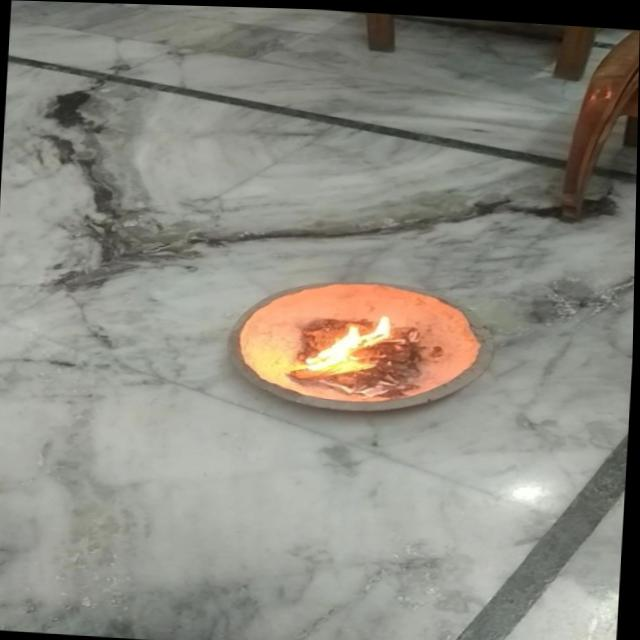fire: (296, 309, 400, 376)
